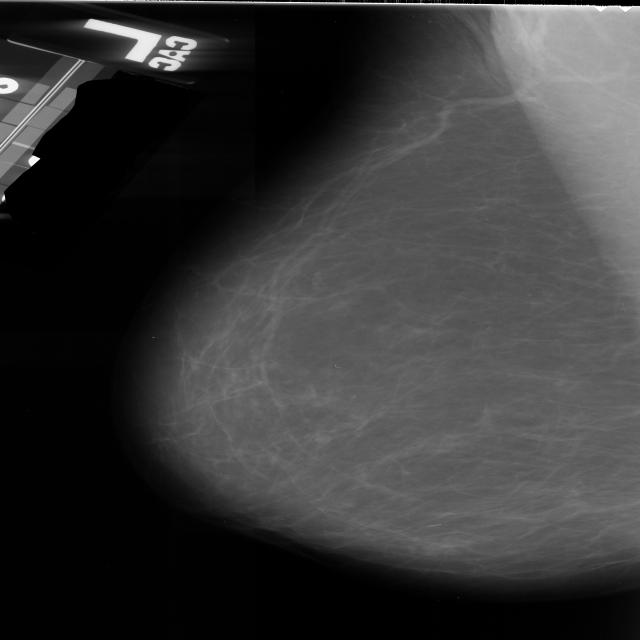normal: (130, 0, 640, 603)
